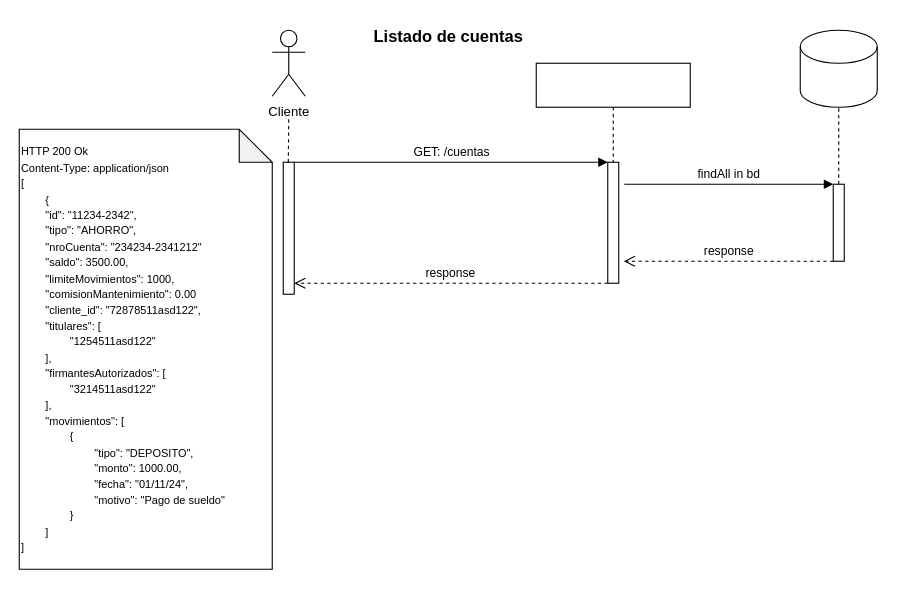
Some shapes in this 897 by 589 pixel diagram are drawn without their labels. The shapes that lost their labels are listed below. From the top down, each one's box as (x1, y1, x2, y2) in pixels, then its label:
(799, 29, 877, 107): MongoDb
(535, 62, 690, 283): ms-cuentas-bancarias
